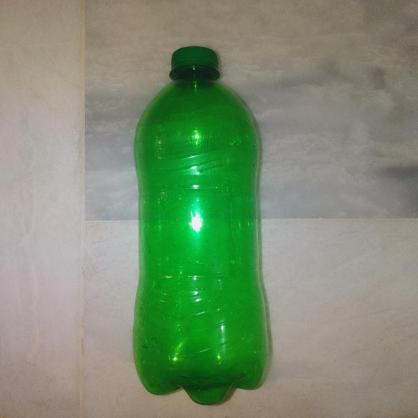bottle: (139, 35, 289, 404)
cap: (169, 46, 224, 74)
